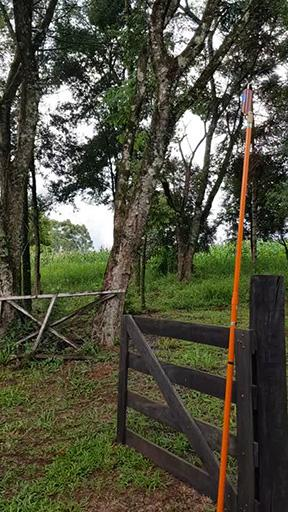Detector_Tensao_Contato: (240, 78, 255, 116)
Vara_Manobra: (216, 116, 256, 512)
